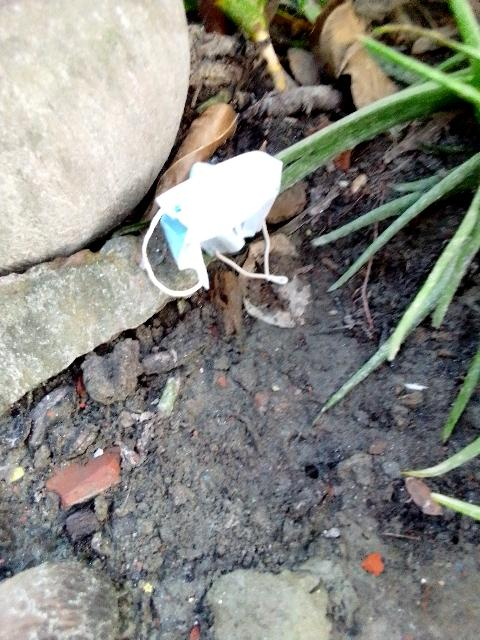mask: (145, 146, 284, 286)
